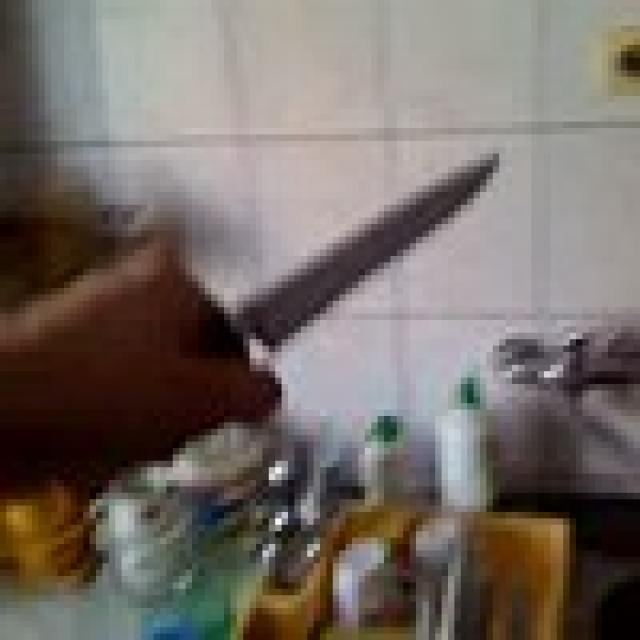Knife: (230, 134, 487, 397)
